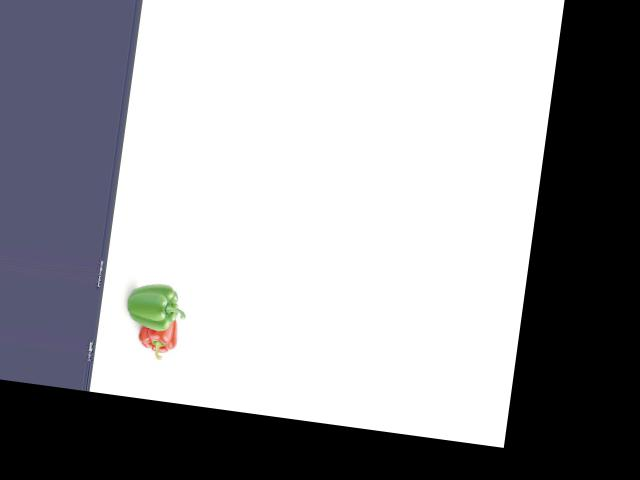bell_pepper: (137, 313, 185, 361)
